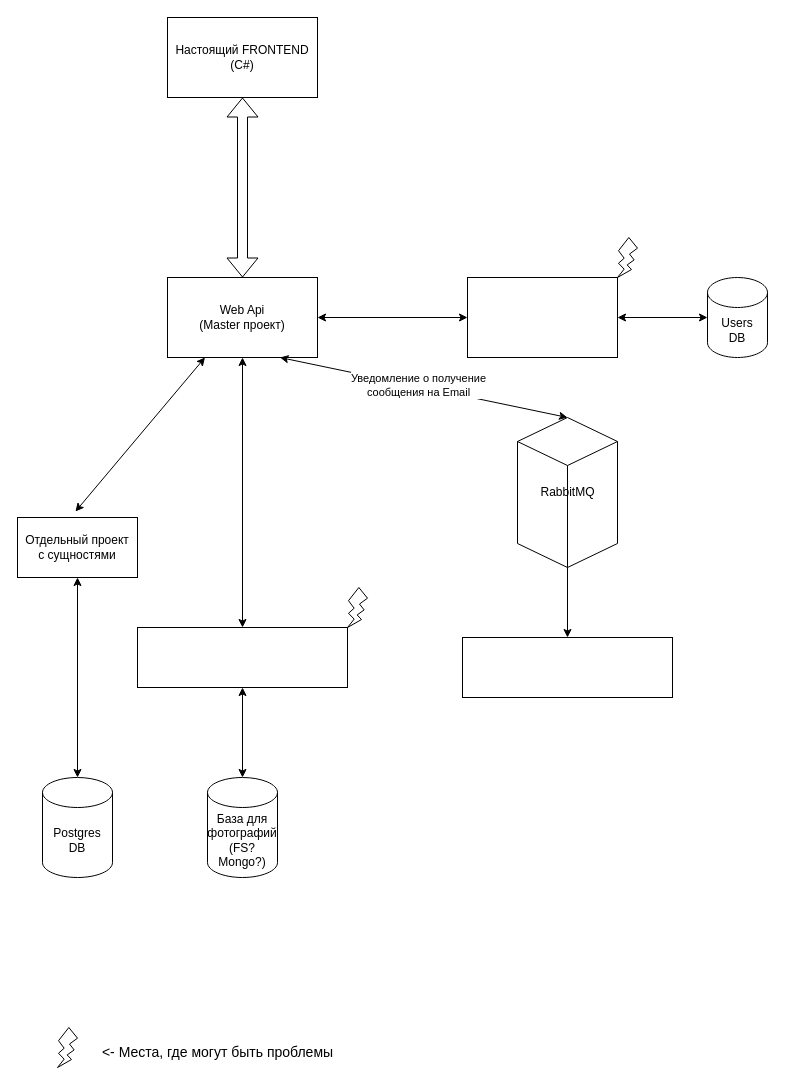
Image size: 785x1085. Some labels were removed from this diagram. Here are the shapes that lost their labels. From the top down, the centre of each, then its label:
[542,317]: AUTH - проверяет логин-пароль и создаёт токен
[242,657]: Микросервис для сохранения и получения фото
[567,667]: Микросервис для отправки уведомлений на Email
